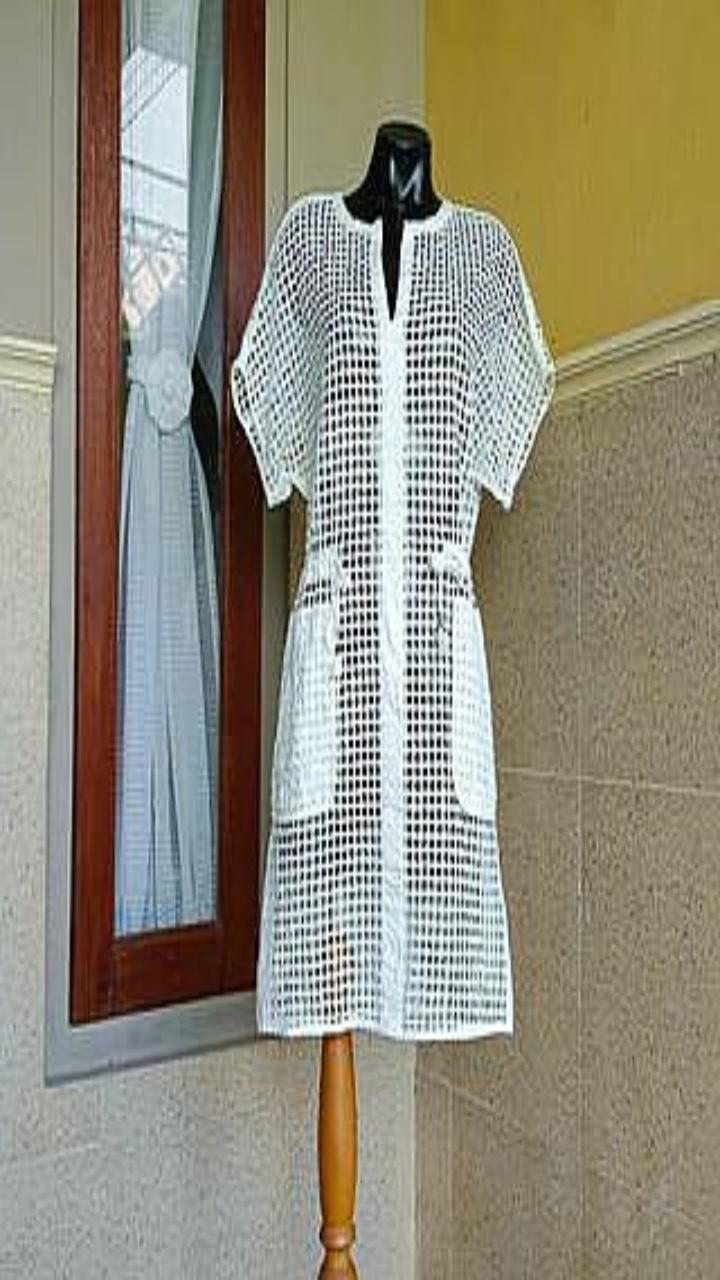Dresses: (231, 192, 554, 1039)
